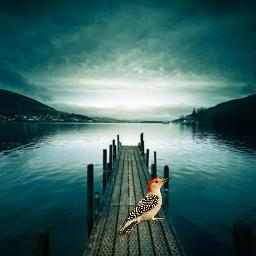Woodpecker: (113, 177, 171, 239)
